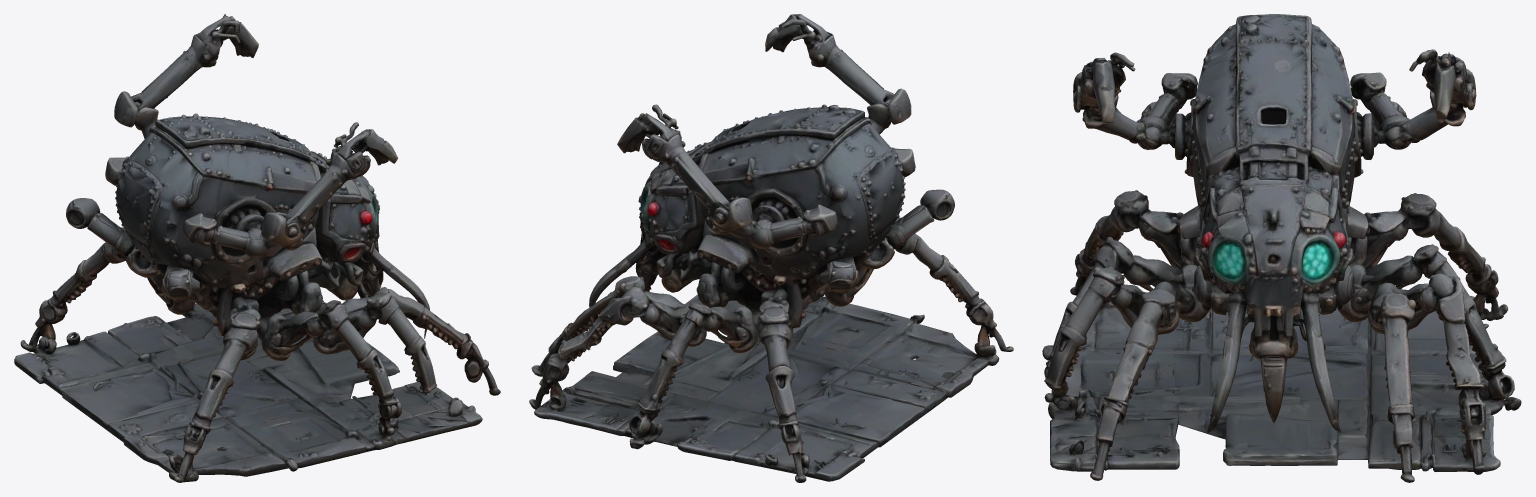
The model's file is perched-b.glb.
The picture shows the model from 3 angles, left to right: view 1: azimuth 30°, elevation 25°; view 2: azimuth 150°, elevation 25°; view 3: azimuth 270°, elevation 25°; orthographic projection. The views are drawn at different scales.
Parts seen in each view (by area): view 1: tripo_node_e30cbc2d-b7c0-45c6-a704-bc1aa8f97611; view 2: tripo_node_e30cbc2d-b7c0-45c6-a704-bc1aa8f97611; view 3: tripo_node_e30cbc2d-b7c0-45c6-a704-bc1aa8f97611.
Part boxes in pixels (<box>): tripo_node_e30cbc2d-b7c0-45c6-a704-bc1aa8f97611: <box>14,14,500,482</box>; tripo_node_e30cbc2d-b7c0-45c6-a704-bc1aa8f97611: <box>529,14,1013,482</box>; tripo_node_e30cbc2d-b7c0-45c6-a704-bc1aa8f97611: <box>1042,14,1521,482</box>.
Bounding box in the file's own units: 0.9213 × 0.8113 × 0.9545.
Materials: 1 (1 with a texture image).
